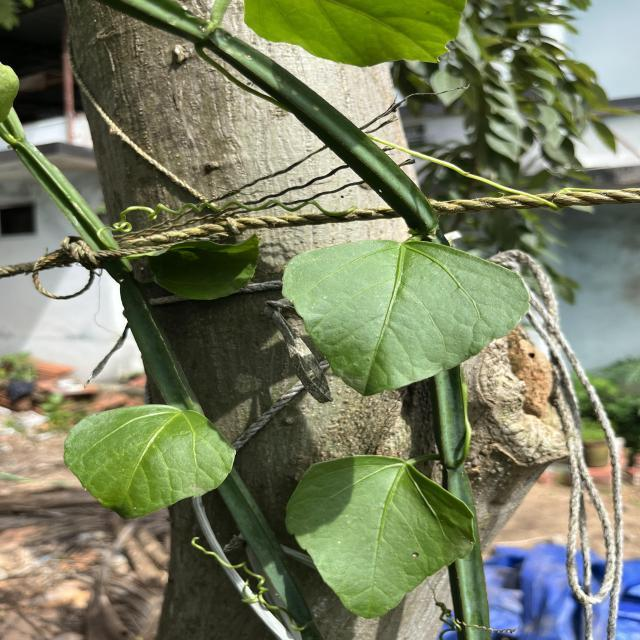Cissus quadrangularis: (280, 236, 535, 400), (278, 451, 480, 623), (61, 399, 240, 522)
